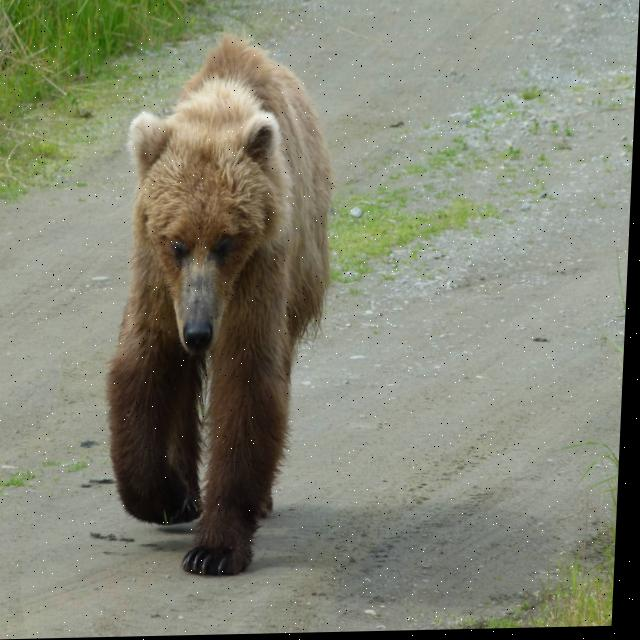bear face: (106, 25, 337, 578)
